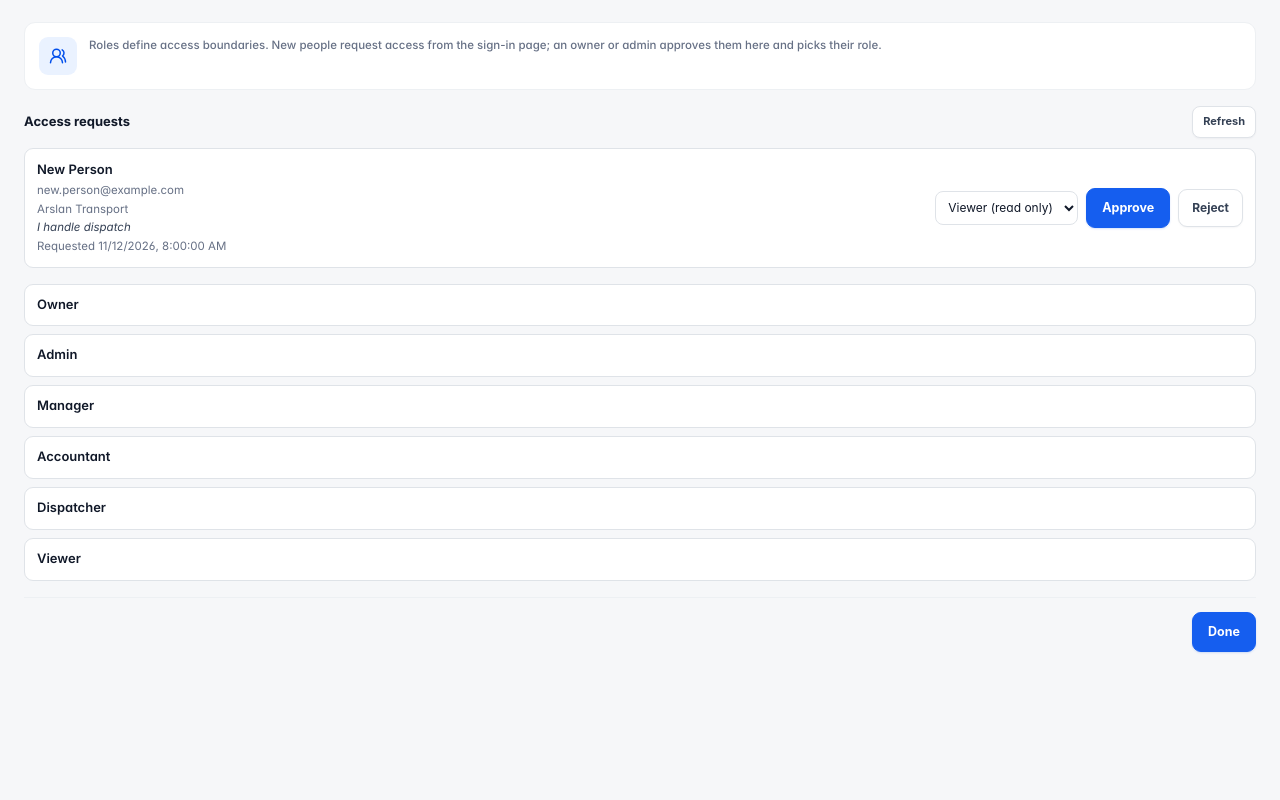
User & Roles access requests › lets an owner approve a pending request with the chosen role
Check: the text "New Person" is shown, box [37,162,113,178]
Select "Dispatcher" in the dropdown named "Role for new.person@example.com" at [1007, 208], box [935,191,1078,225]
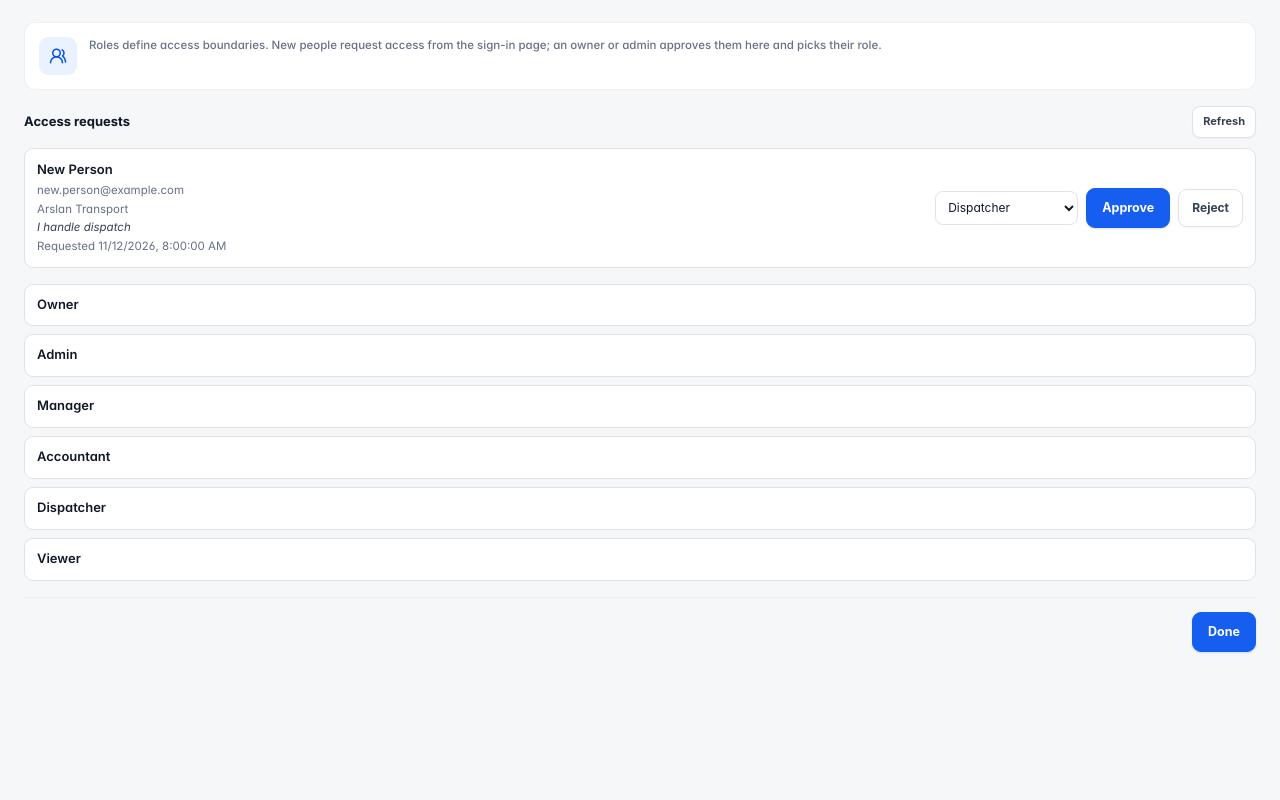
Click the button "Approve" at [1128, 208], box [1086,188,1170,228]
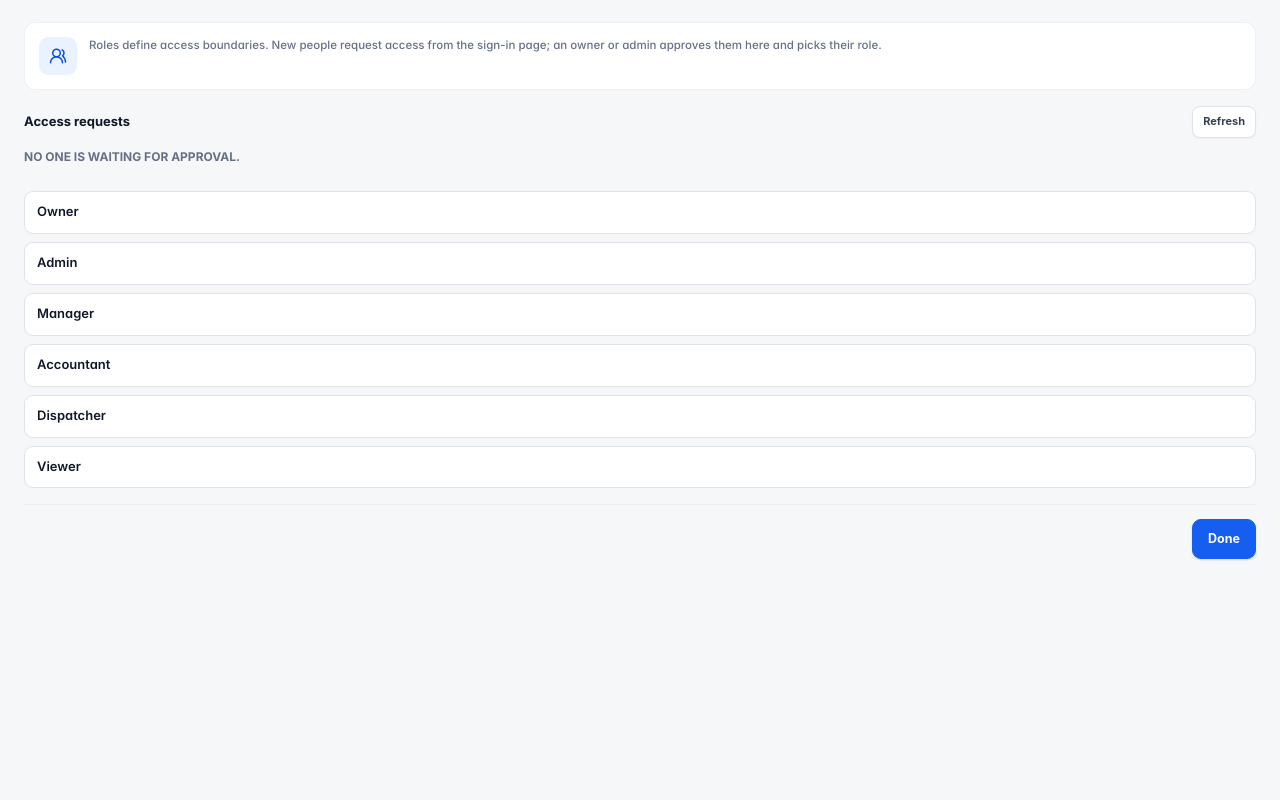
Check: the text "New Person" is gone
